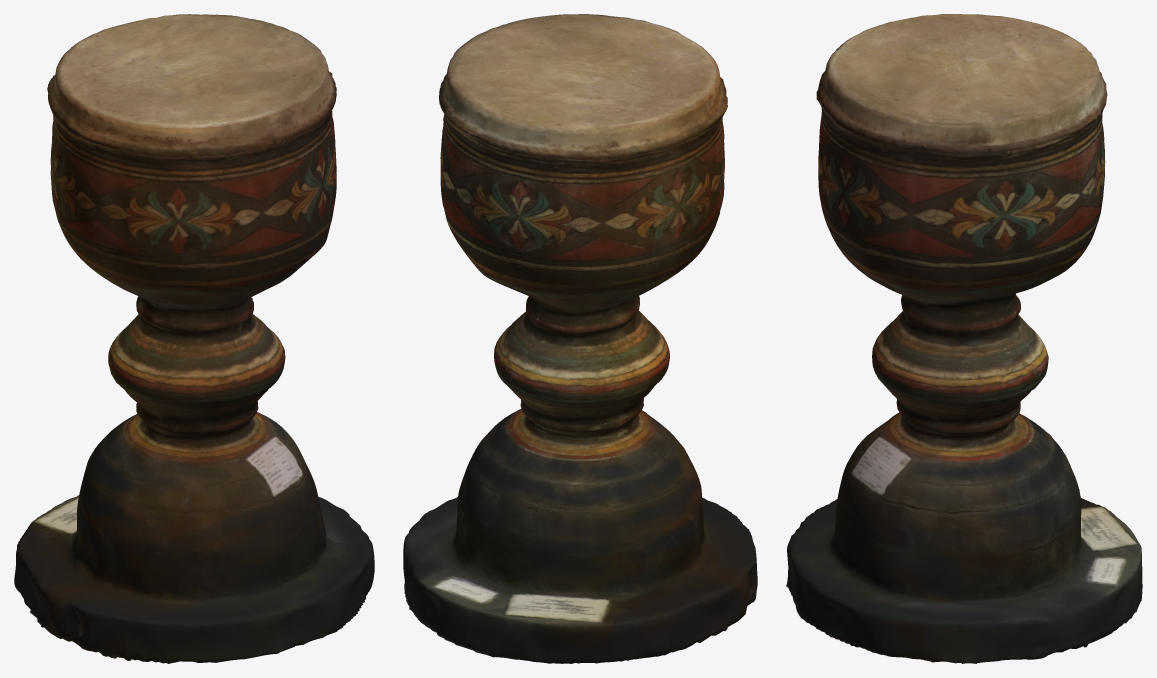
File: dbkn_finish.glb
3 renders of one model, left to right at view 1: azimuth 30°, elevation 25°; view 2: azimuth 150°, elevation 25°; view 3: azimuth 270°, elevation 25°, orthographic.
Parts seen in each view (by area): view 1: low; view 2: low; view 3: low.
Boxes of the visible parts, <box> form: low: <box>14,14,374,663</box>; low: <box>403,14,757,663</box>; low: <box>786,14,1142,663</box>.
Size of the model in its own units: 4.7 by 7.68 by 4.7.
Materials: 1 (1 with a texture image).
